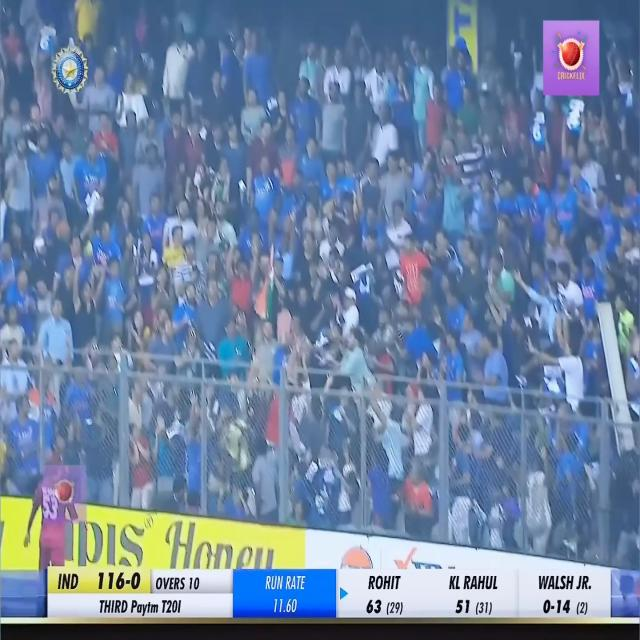fully_visible: (128, 594, 161, 620)
